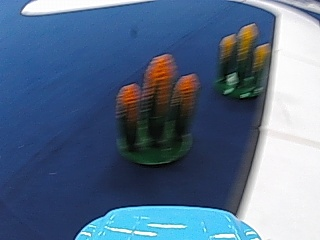corn: (112, 51, 199, 159), (214, 20, 265, 101)
